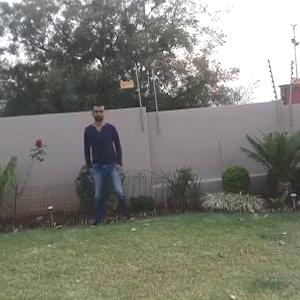follow: (76, 100, 122, 228)
